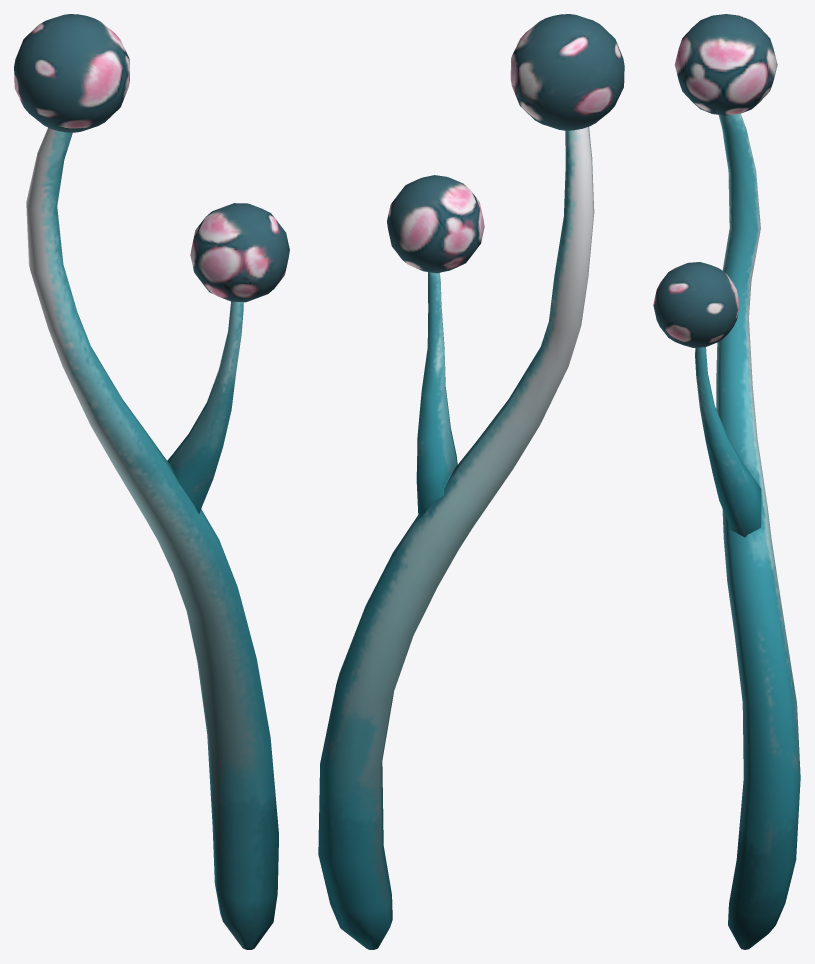
Rendered from Cartoon Seaweed_13-1-15.fbx.
The picture shows the model from 3 angles, left to right: view 1: azimuth 30°, elevation 25°; view 2: azimuth 150°, elevation 25°; view 3: azimuth 270°, elevation 25°; orthographic projection. The views are drawn at different scales.
Visible parts, largest first — view 1: Cartoon Seaweed_13.1.15; view 2: Cartoon Seaweed_13.1.15; view 3: Cartoon Seaweed_13.1.15.
Part boxes in pixels (x1,y1,x2,y2): Cartoon Seaweed_13.1.15: (14,14,289,949); Cartoon Seaweed_13.1.15: (318,14,624,949); Cartoon Seaweed_13.1.15: (653,14,800,949).
Size of the model in its own units: 23.27 by 78.66 by 12.37.
Materials: 1 (1 with a texture image).
